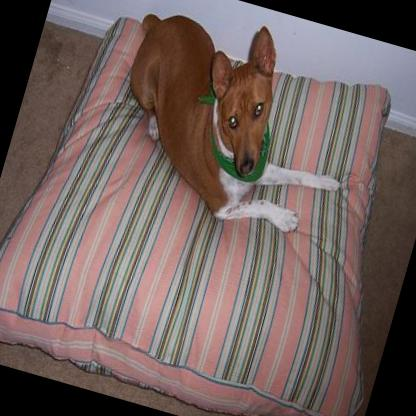basenji: (95, 0, 377, 240)
